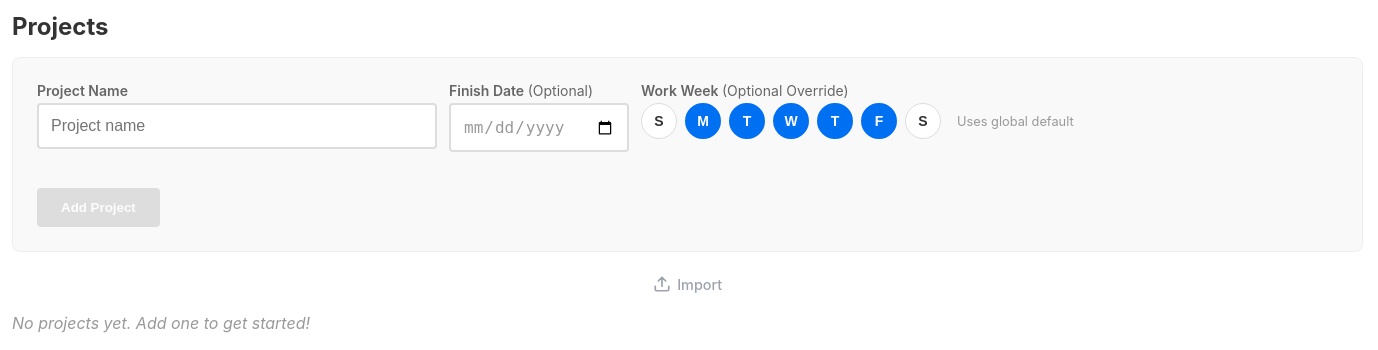
ProjectsTab › finish date validation › shows error for date outside 2000-2050 range
Type "1999-01-01" into the date field labelled "Finish Date (Optional)" at point(539, 128), box [449,103,629,152]
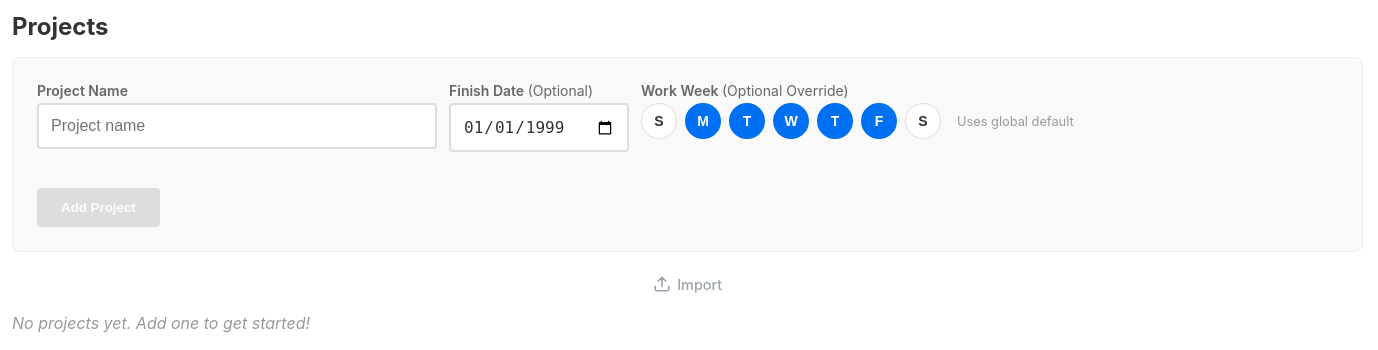
Leave the date field labelled "Finish Date (Optional)", box [449,103,629,152]
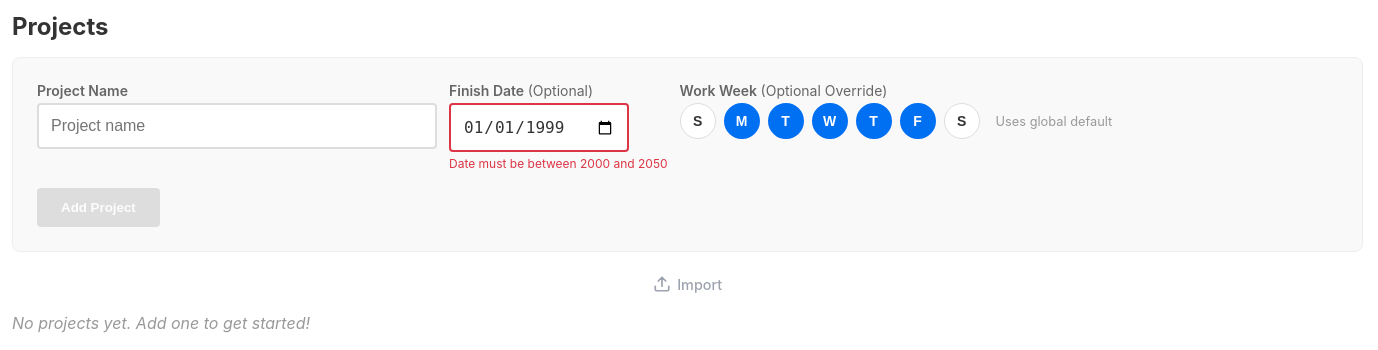
Expected: the text "Date must be between 2000 and 2050" is shown, [449,156,668,171]
